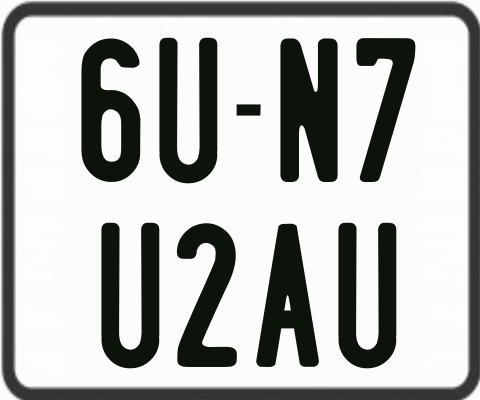2: (175, 222, 237, 370)
6: (78, 38, 141, 181)
7: (356, 38, 421, 186)
A: (256, 223, 323, 366)
N: (278, 38, 336, 188)
U: (156, 37, 217, 187), (98, 221, 158, 367), (336, 221, 394, 366)
